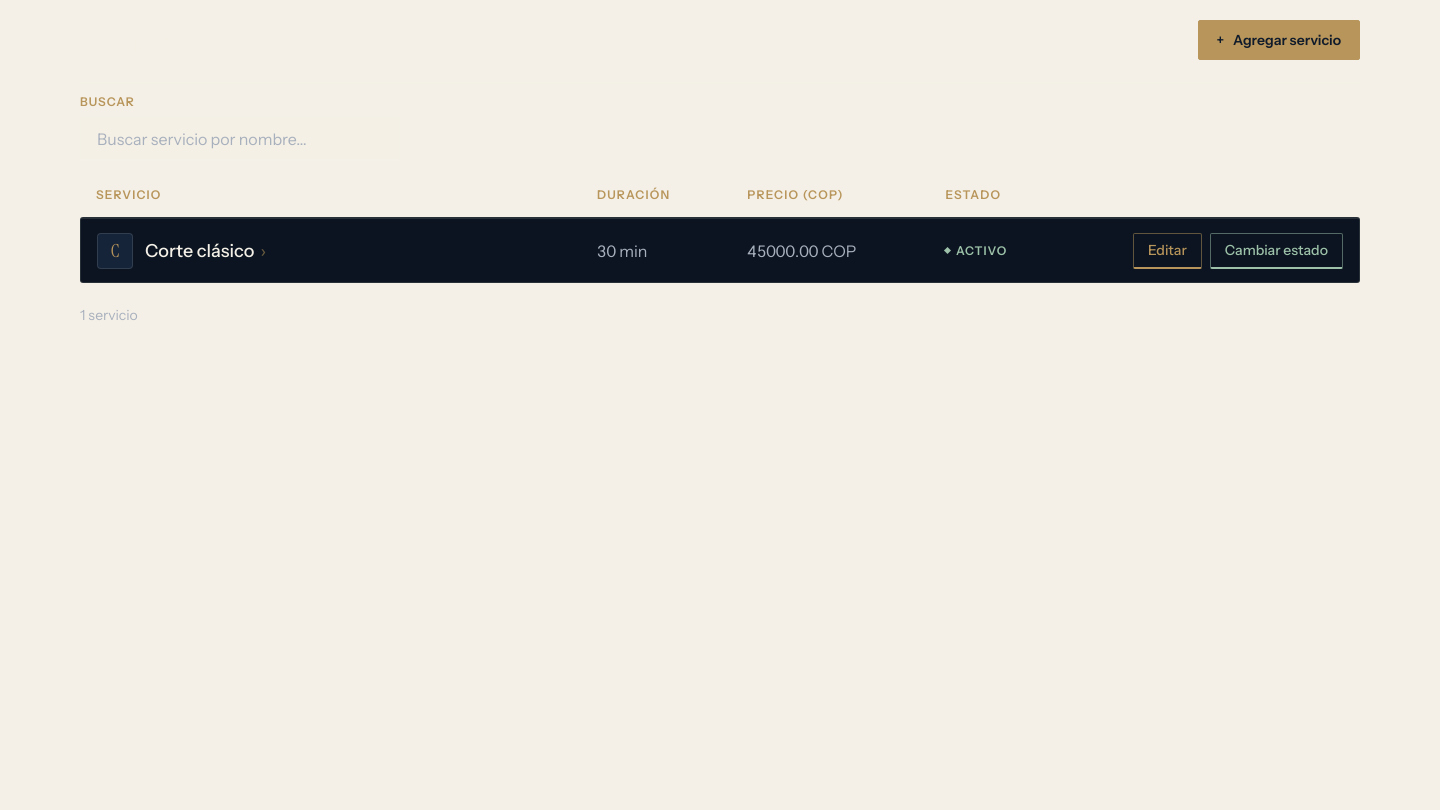
CatalogPage › opens the create dialog and blocks submission for an empty name
This screenshot has width=1440, height=810.
Click the button "Agregar servicio" at [1279, 40], box [1198,20,1360,60]
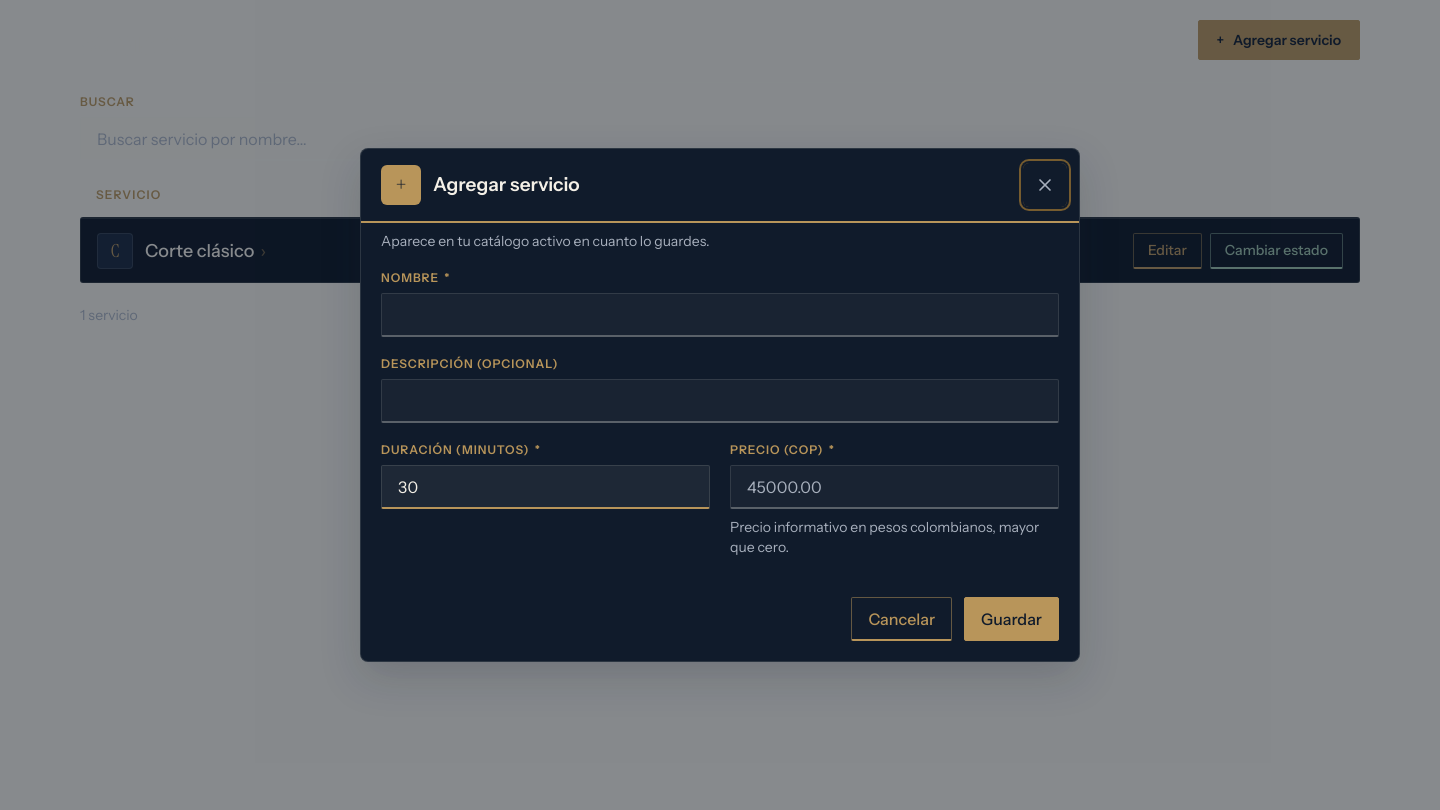
Submit the form, box [381,271,1059,641]
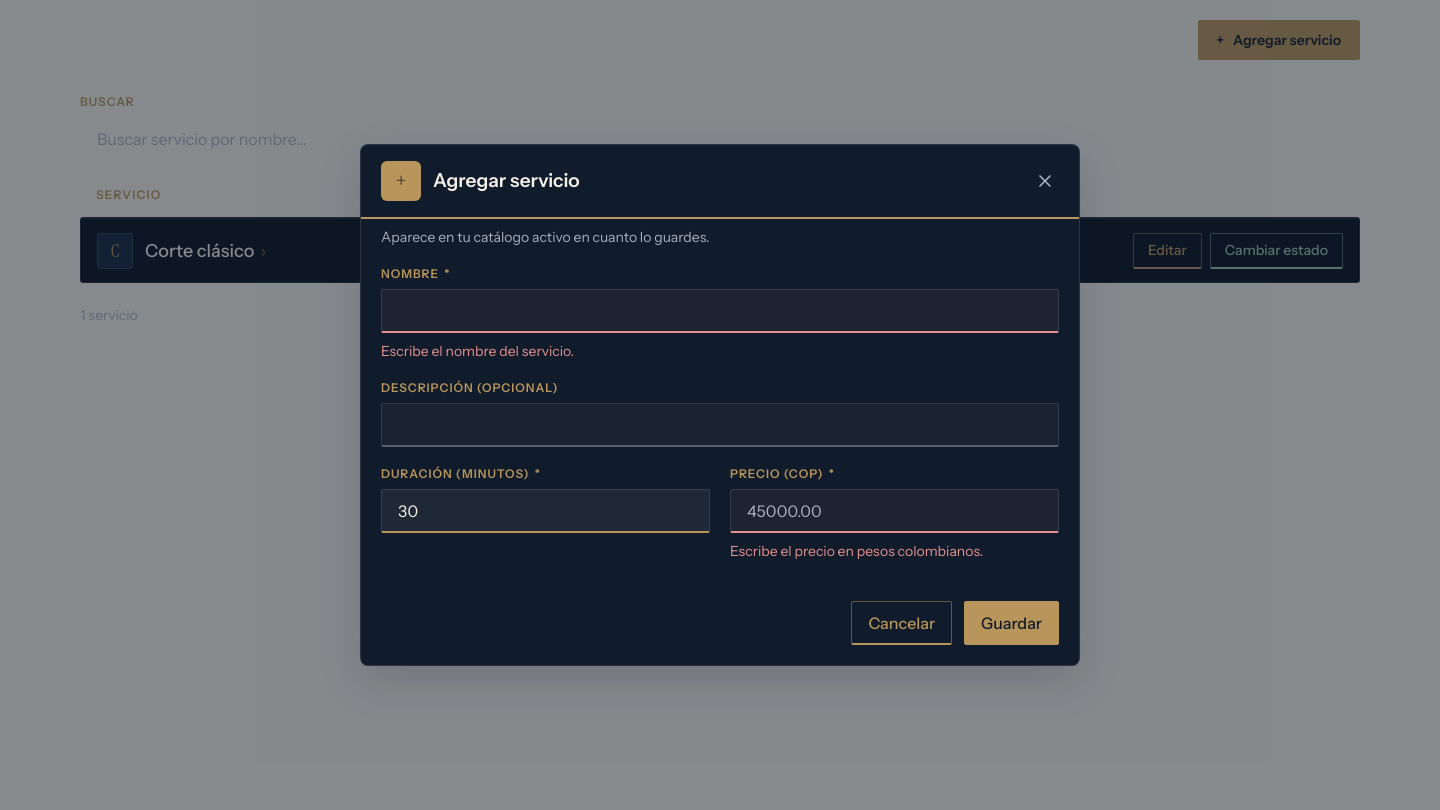
Check: the text "Escribe el nombre del servicio." is shown, box [381,342,574,360]
